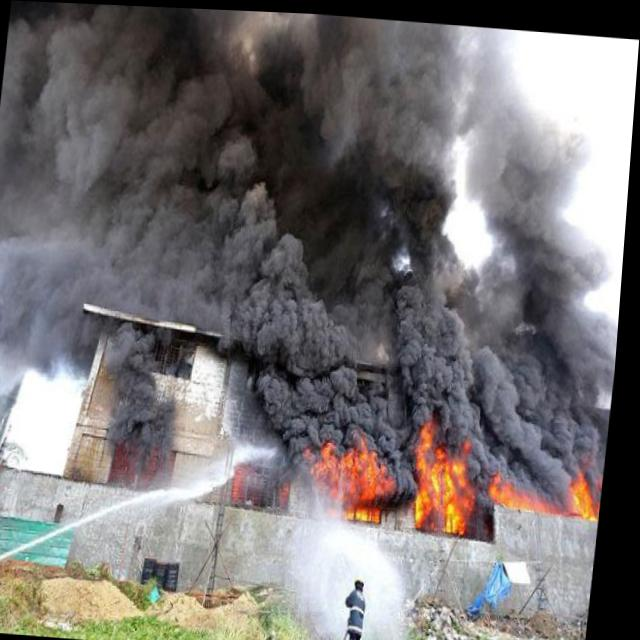fire: (293, 416, 410, 530), (405, 410, 503, 545), (488, 459, 571, 515), (237, 455, 300, 502), (570, 453, 610, 521)
